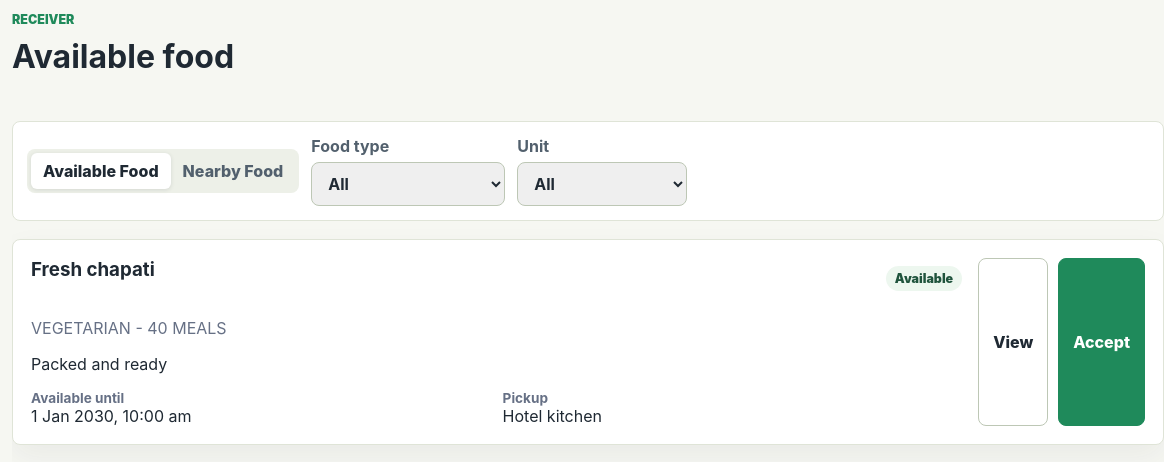
Test case: AvailableFood › shows a missing location error from the nearby API
What coordinates should you click on to do the following:
click the button "Nearby Food"
I would click on:
 (233, 171)
Its box is [171,153,295,189].
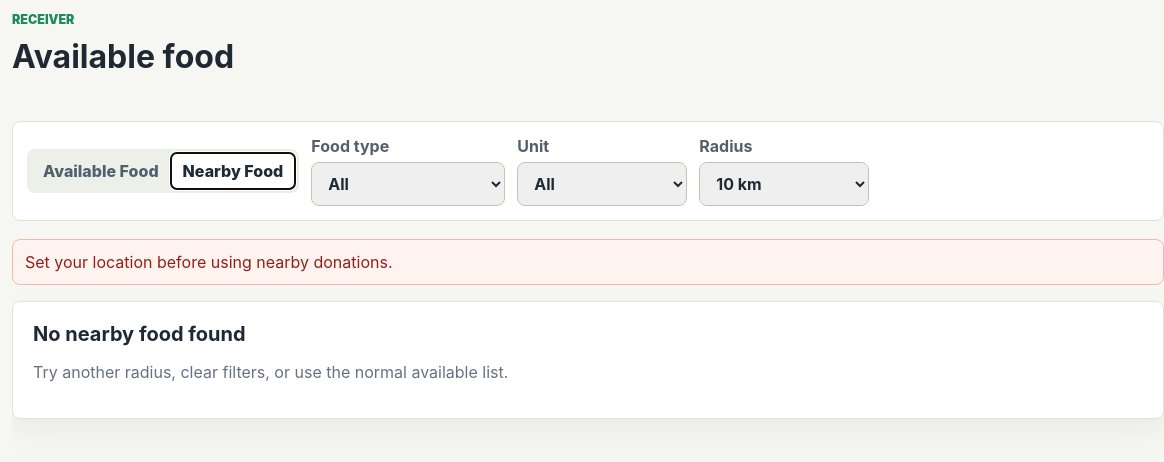
Result: the text "Set your location before using nearby donations." is shown at [12,239,1163,285]
